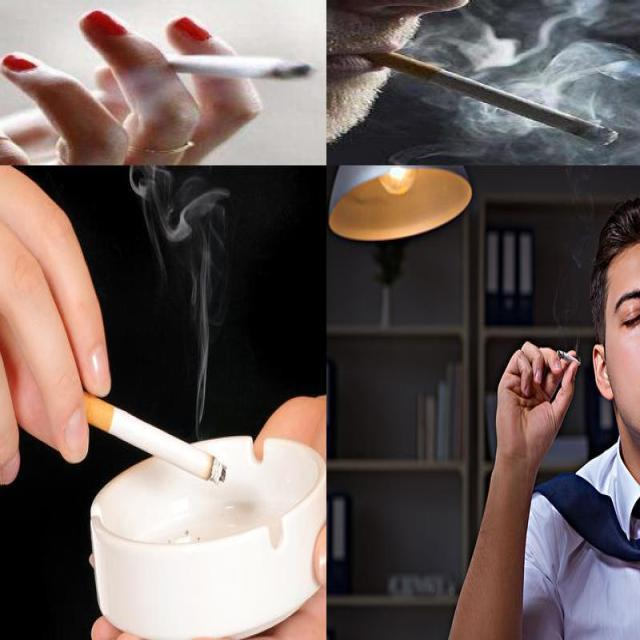smoking: (367, 50, 620, 147), (74, 376, 230, 494), (140, 49, 316, 88), (556, 348, 582, 368)
